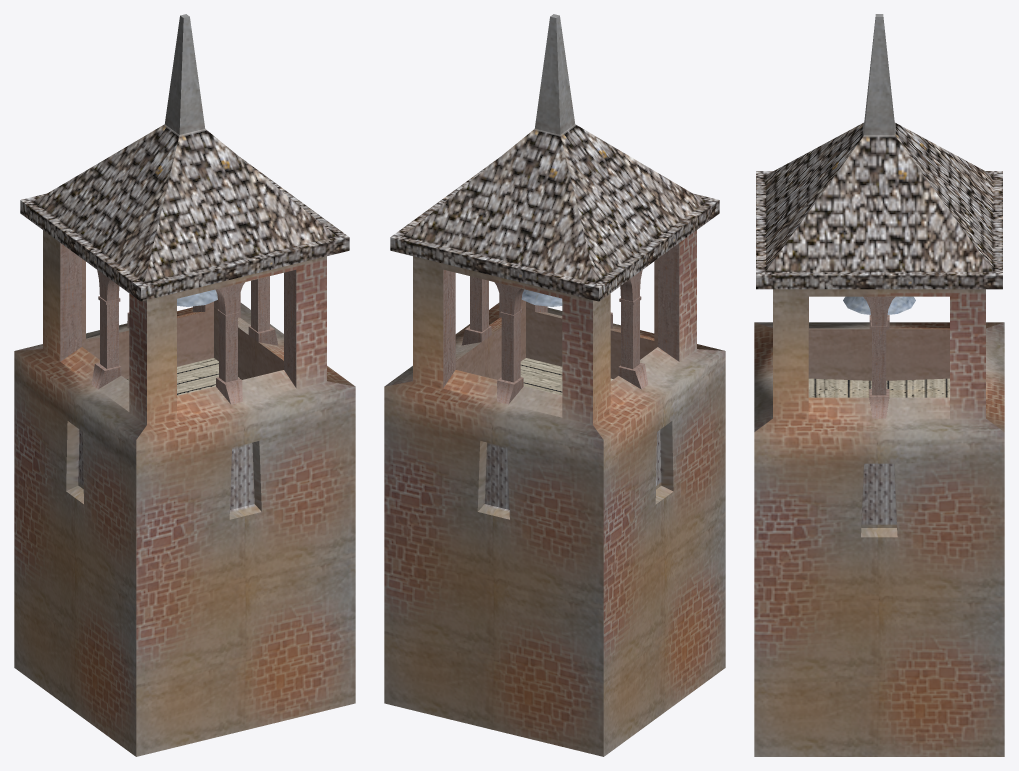
The model's file is bellTower_01.fbx.
3 renders of one model, left to right at view 1: azimuth 30°, elevation 25°; view 2: azimuth 150°, elevation 25°; view 3: azimuth 270°, elevation 25°, orthographic. The views are drawn at different scales.
Parts seen in each view (by area): view 1: bellTower; view 2: bellTower; view 3: bellTower, bell.
Boxes of the visible parts, box(x1,y1,x2,y2) form: bellTower: box(14, 14, 355, 756); bellTower: box(384, 14, 725, 756); bellTower: box(754, 14, 1004, 756); bell: box(843, 296, 915, 314).
Bounding box in the file's own units: 12.87 × 37.5 × 12.38.
